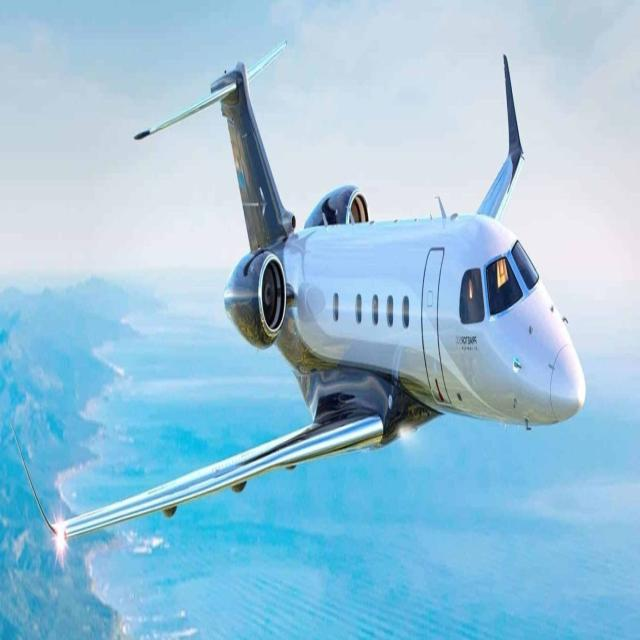jet: (29, 0, 591, 640)
